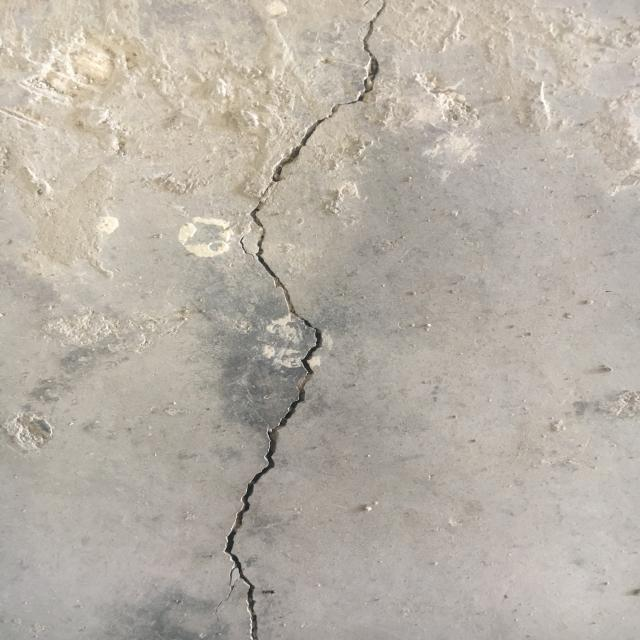Rachadura: (224, 2, 385, 640)
